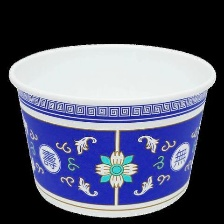paper_cup: (2, 38, 220, 221)
